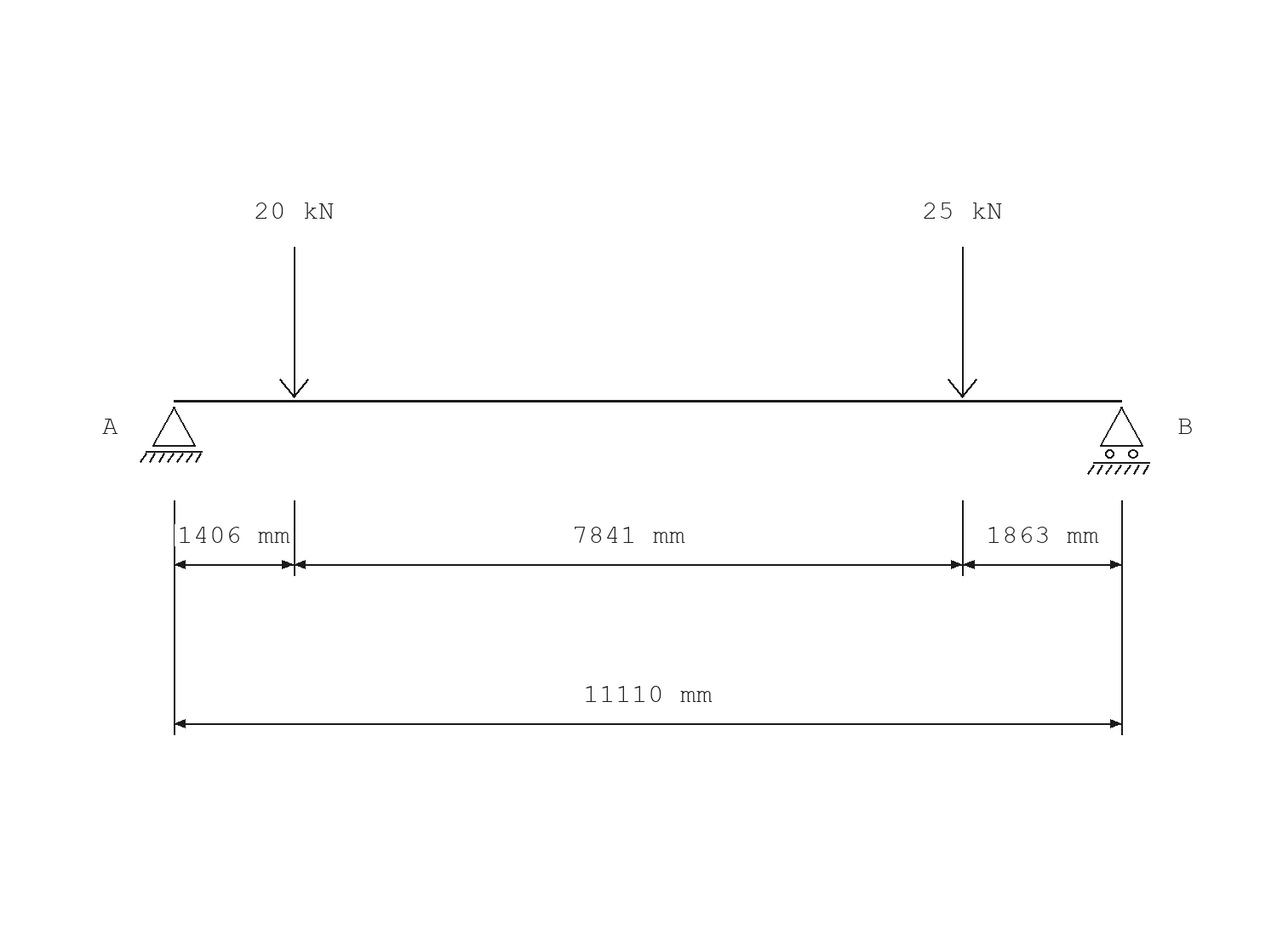pin_support: (140, 407, 203, 463)
point_load: (279, 247, 309, 398), (948, 247, 977, 398)
roller_support: (1087, 407, 1150, 475)
